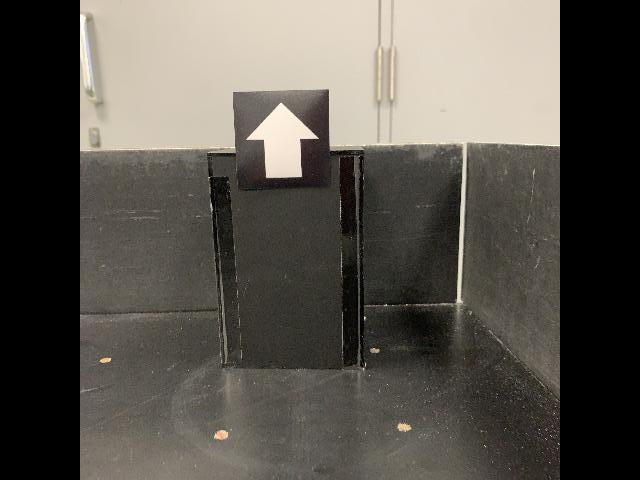up: (231, 88, 333, 192)
